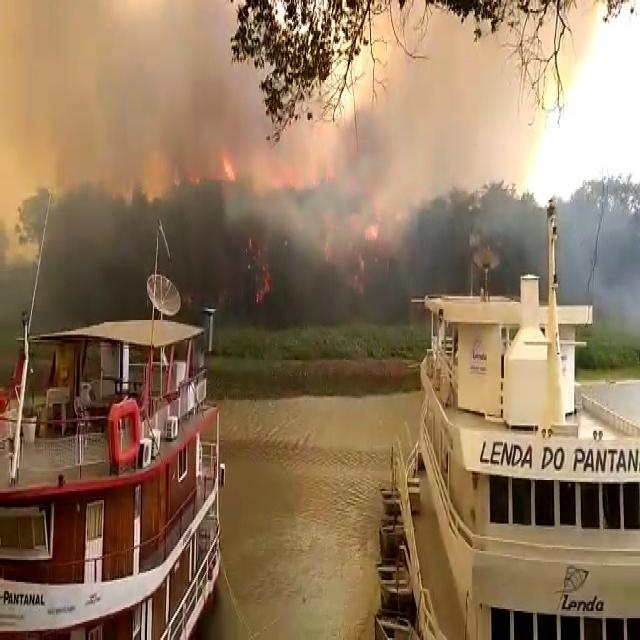Fire: (335, 211, 388, 296), (252, 209, 273, 309), (214, 146, 241, 178)
Smoke: (5, 5, 577, 193), (570, 133, 640, 342)
